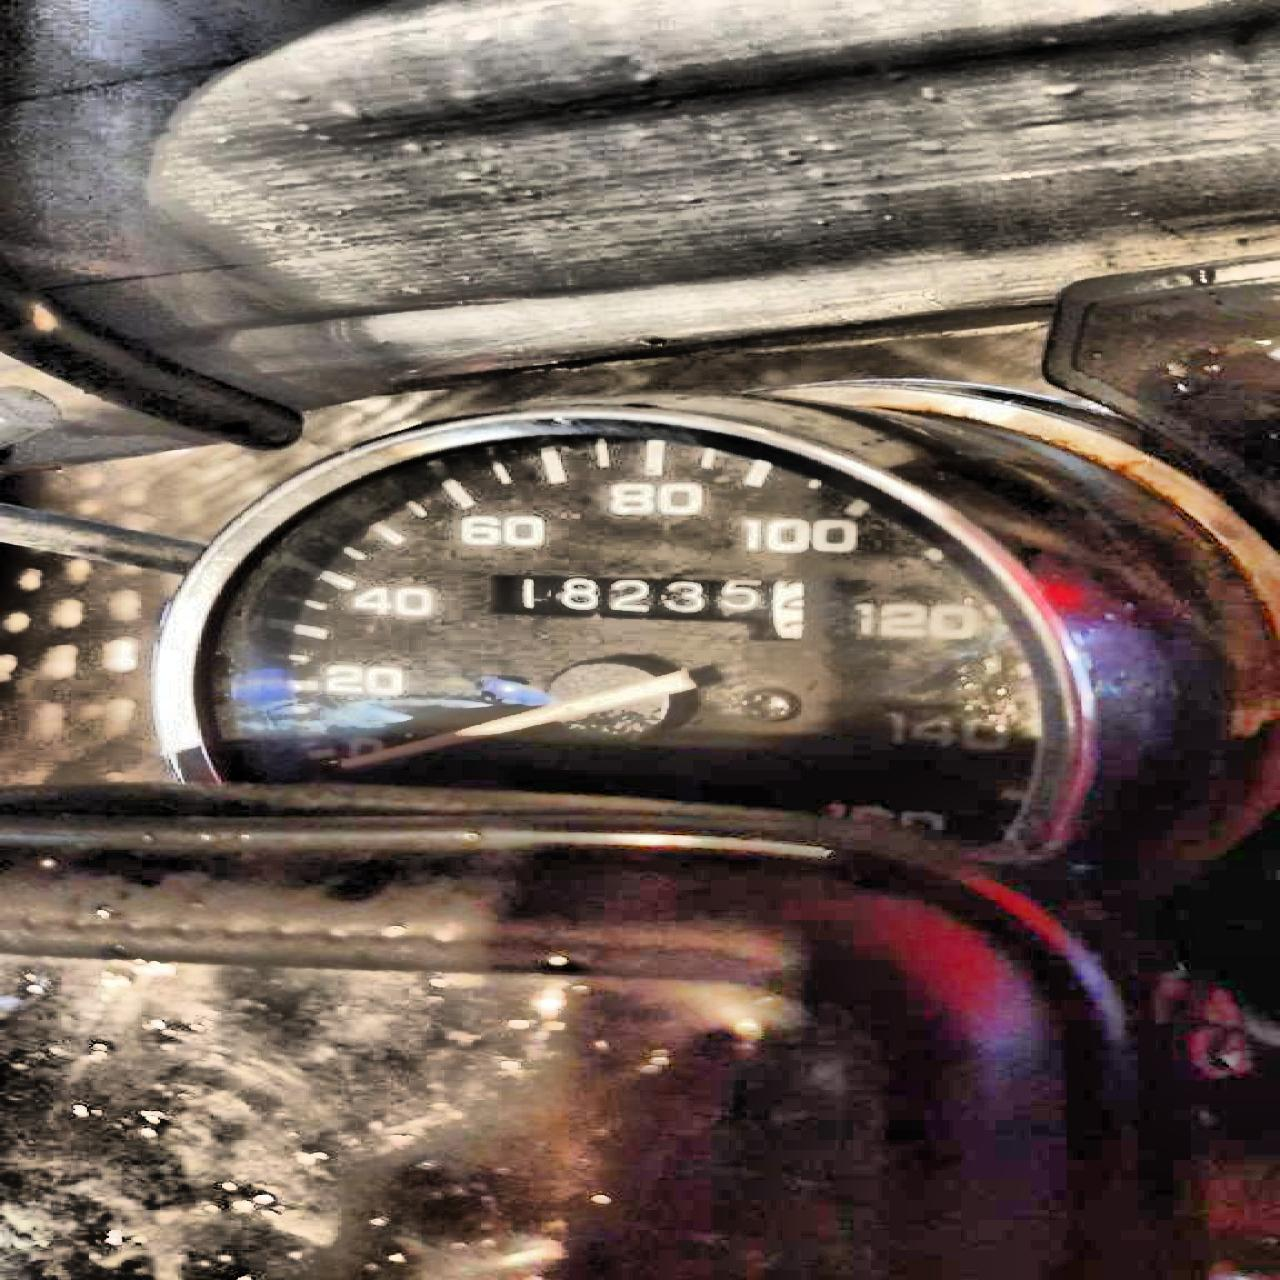1: (513, 576, 543, 619)
2: (605, 576, 652, 615), (771, 579, 806, 611)
3: (660, 576, 702, 615)
5: (717, 574, 764, 610)
8: (558, 576, 600, 615)
odometer: (481, 567, 809, 644)
